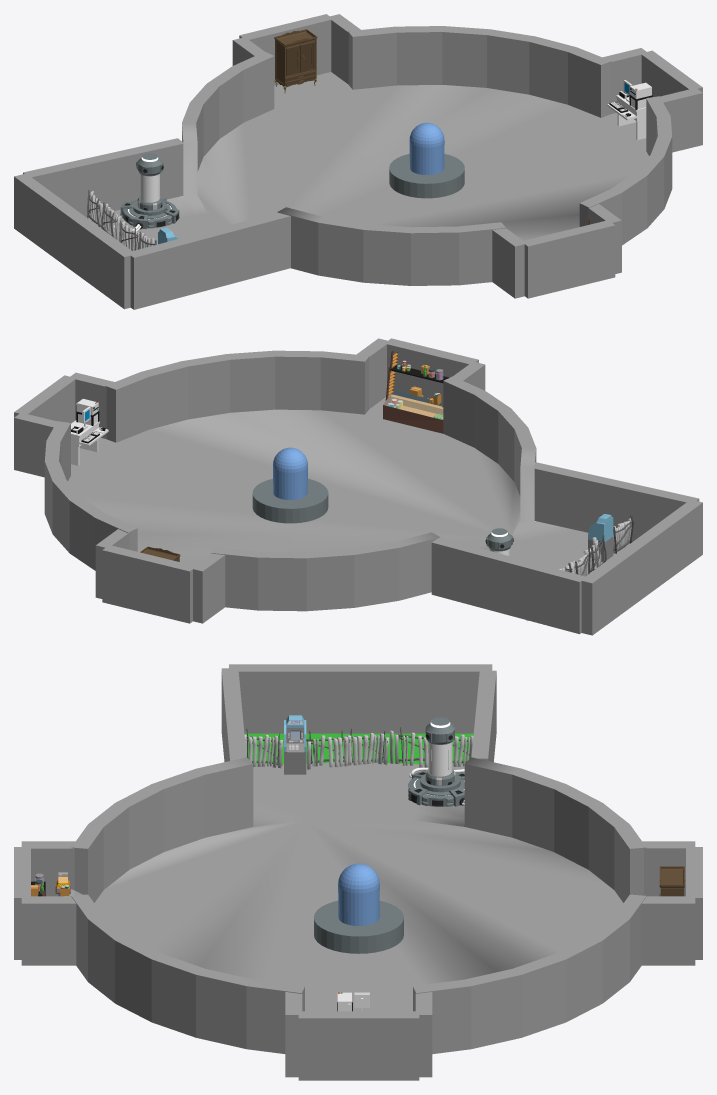
File: HubBase.fbx
3 renders of one model, top to bottom at view 1: azimuth 30°, elevation 25°; view 2: azimuth 150°, elevation 25°; view 3: azimuth 270°, elevation 25°, orthographic. The views are drawn at different scales.
Visible parts, largest first — view 1: Sphere; view 2: Sphere; view 3: Sphere.
Boxes of the visible parts, x1,y1,x2,y2 form: Sphere: (14,14,702,309); Sphere: (14,338,702,635); Sphere: (14,664,702,1080).
Bounding box in the file's own units: 4004 × 411 × 3293.
